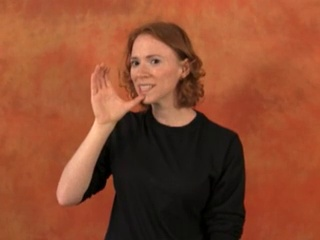drink: (86, 61, 147, 127)
